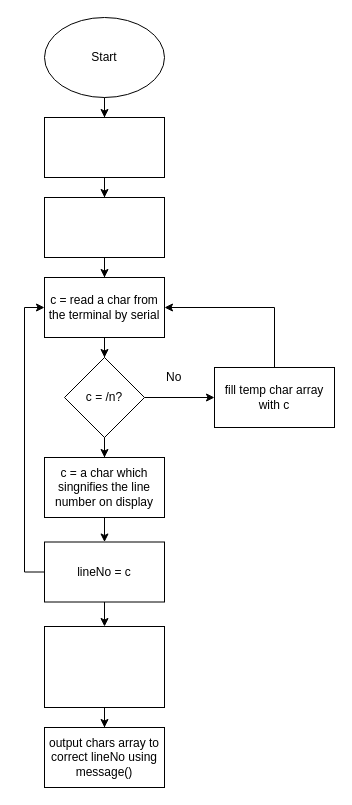
The diagram is 352 pixels wide and 805 high, and some of its shapes have lost their labels. The centre of each missing label's shape, as x and y in pixels:
"add temp char array to chars main array and then fill with spaces" belongs at point (104, 667).
"Create a string array and fill it with spaces" belongs at point (104, 227).
"Enable RX and TX" belongs at point (104, 147).
